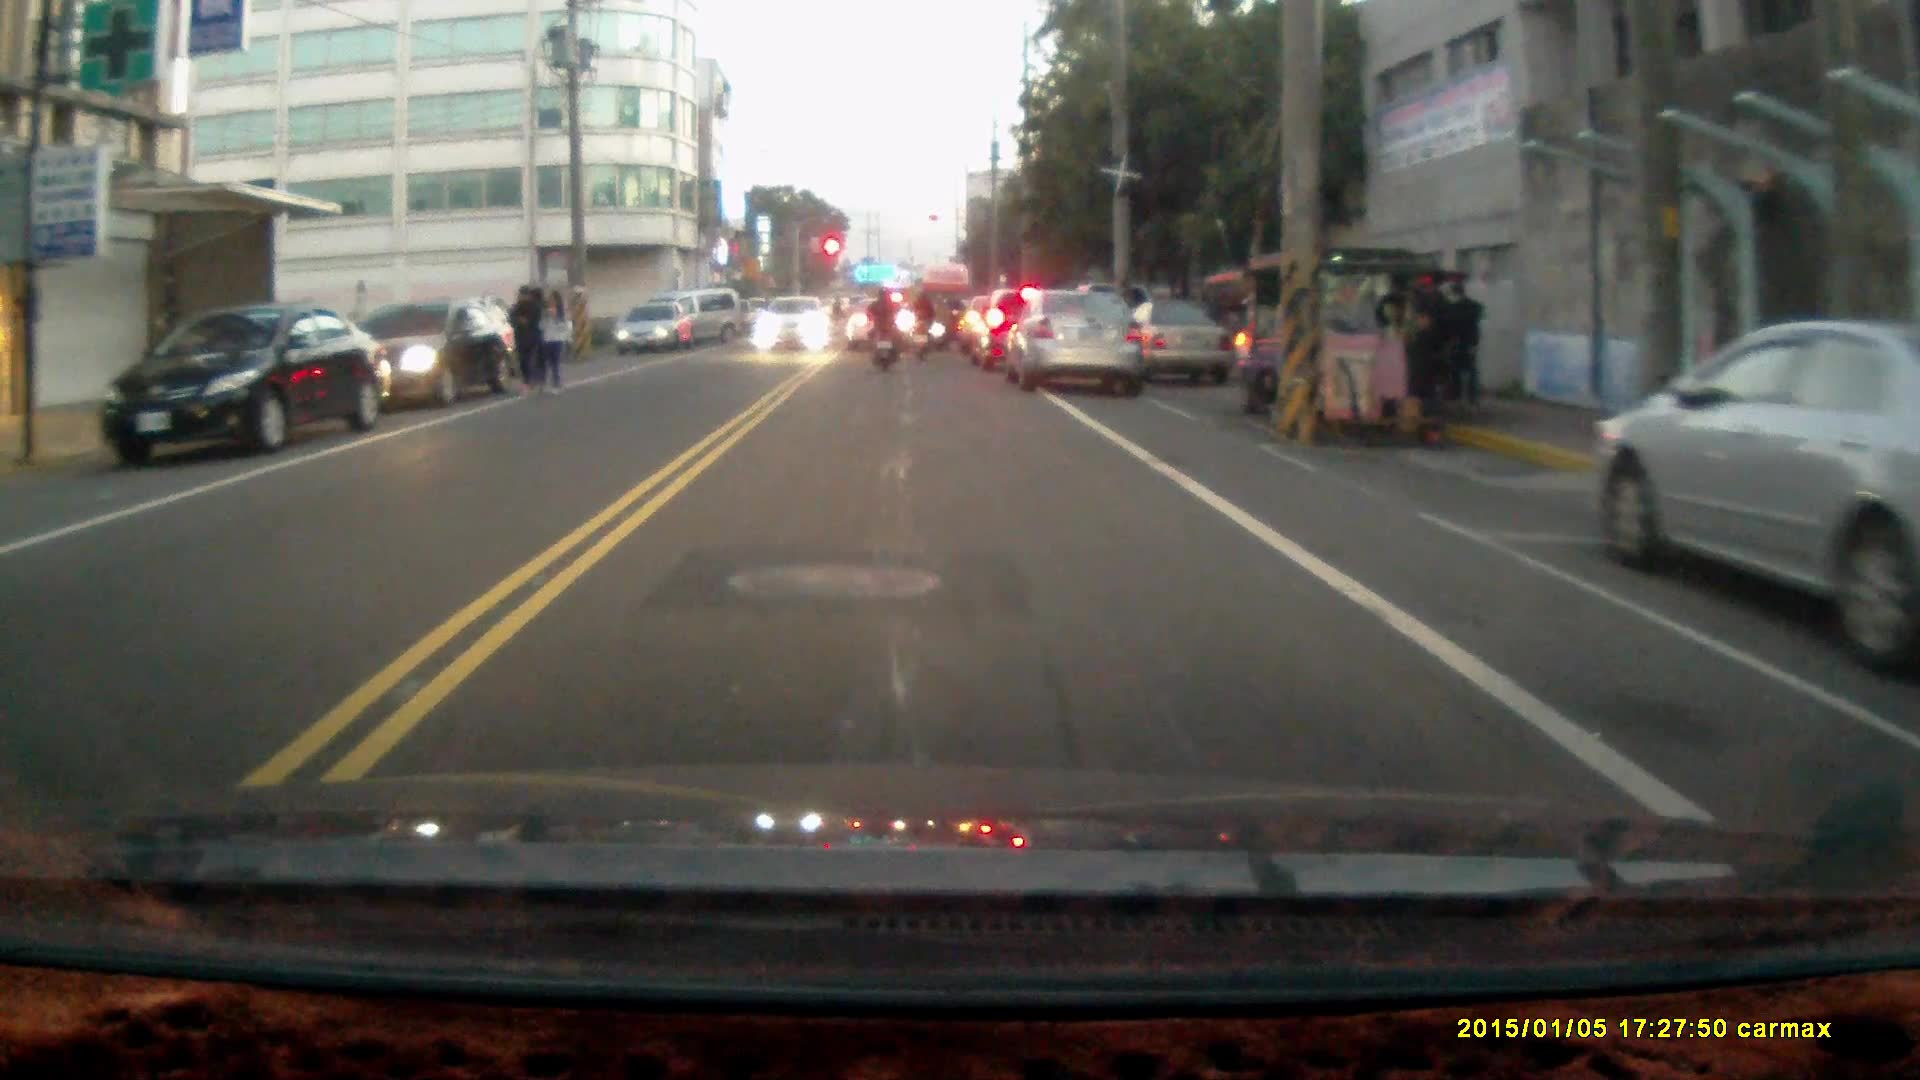pedestrian: (1440, 278, 1487, 413), (506, 279, 546, 394), (540, 284, 568, 394)
rider: (865, 283, 901, 374), (906, 285, 937, 363)
vehicle: (1587, 325, 1920, 659), (1227, 248, 1472, 436), (105, 306, 386, 464), (354, 298, 520, 413), (1010, 289, 1151, 399), (758, 296, 838, 358), (617, 300, 701, 354), (848, 295, 924, 354)
